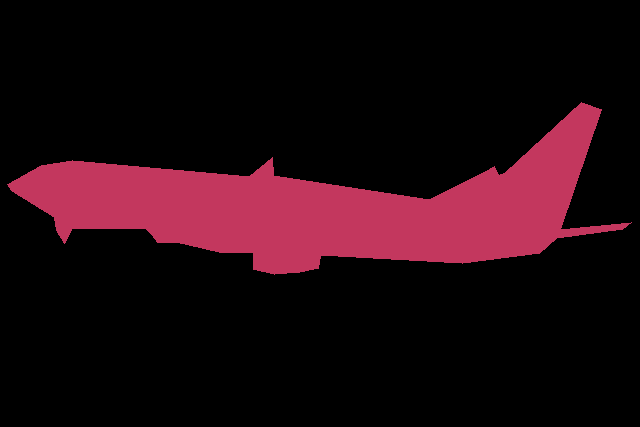Airplane: (7, 102, 631, 274)
